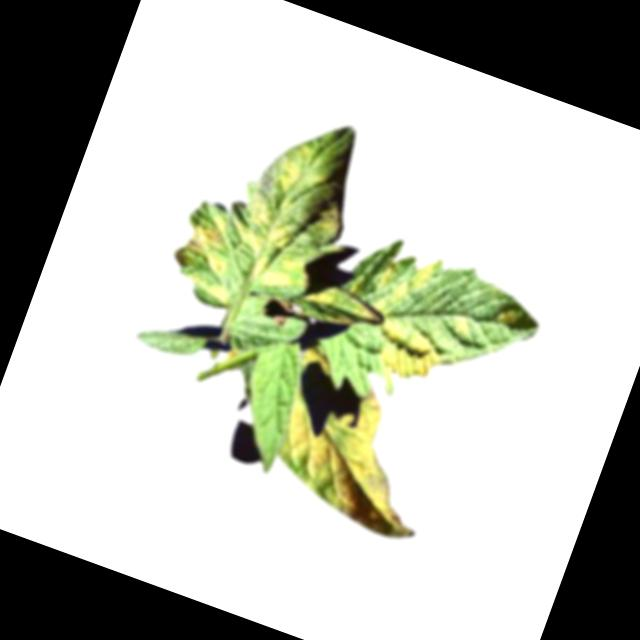Leaf_Mold: (263, 369, 456, 548), (221, 191, 332, 302), (164, 205, 254, 306), (363, 313, 446, 393), (273, 138, 335, 205), (393, 249, 442, 306), (492, 306, 517, 331)
